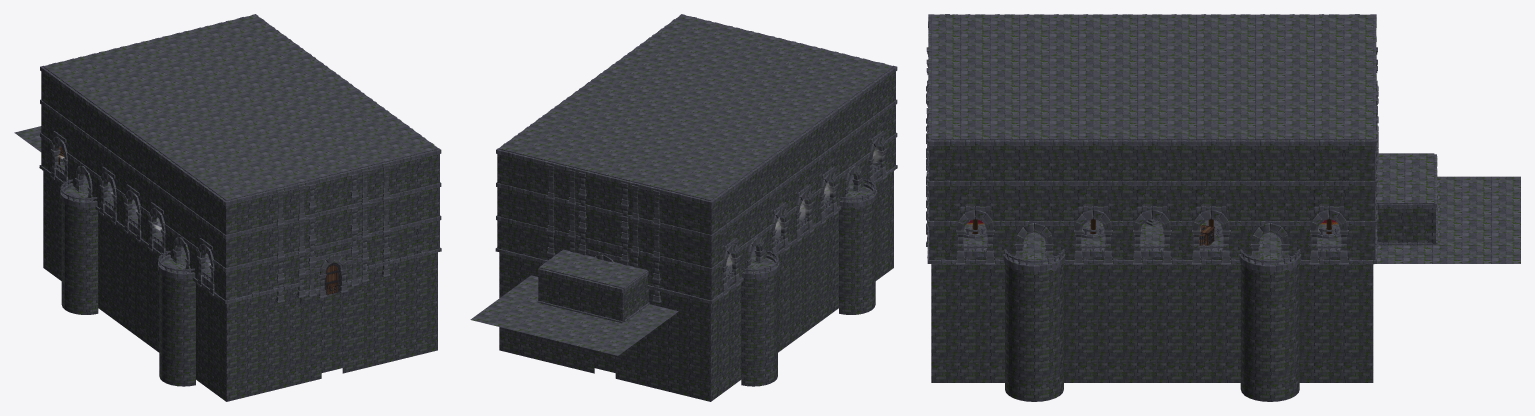
The model's file is fantastic_demo_level_grounded-transformed.glb.
The picture shows the model from 3 angles, left to right: view 1: azimuth 30°, elevation 25°; view 2: azimuth 150°, elevation 25°; view 3: azimuth 270°, elevation 25°; orthographic projection. The views are drawn at different scales.
Visible parts, largest first — view 1: walls, roof, railings.001, ground, wood_props; view 2: walls, roof, railings.001, ground, godrays; view 3: walls, roof, railings.001, ground.
Part boxes in pixels (x1,y1,x2,y2): walls: (41,71,439,401); roof: (43,15,437,200); railings.001: (39,14,441,303); ground: (14,126,211,278); wood_props: (206,253,341,294); walls: (497,71,895,401); roof: (499,15,893,288); railings.001: (495,14,897,323); ground: (470,165,876,355); godrays: (726,147,882,266); walls: (929,145,1435,401); roof: (931,14,1434,206); railings.001: (926,14,1437,271); ground: (963,176,1520,264).
Bounding box in the file's own units: 48.48 × 37.45 × 80.7.
Materials: 21 (21 with a texture image).
